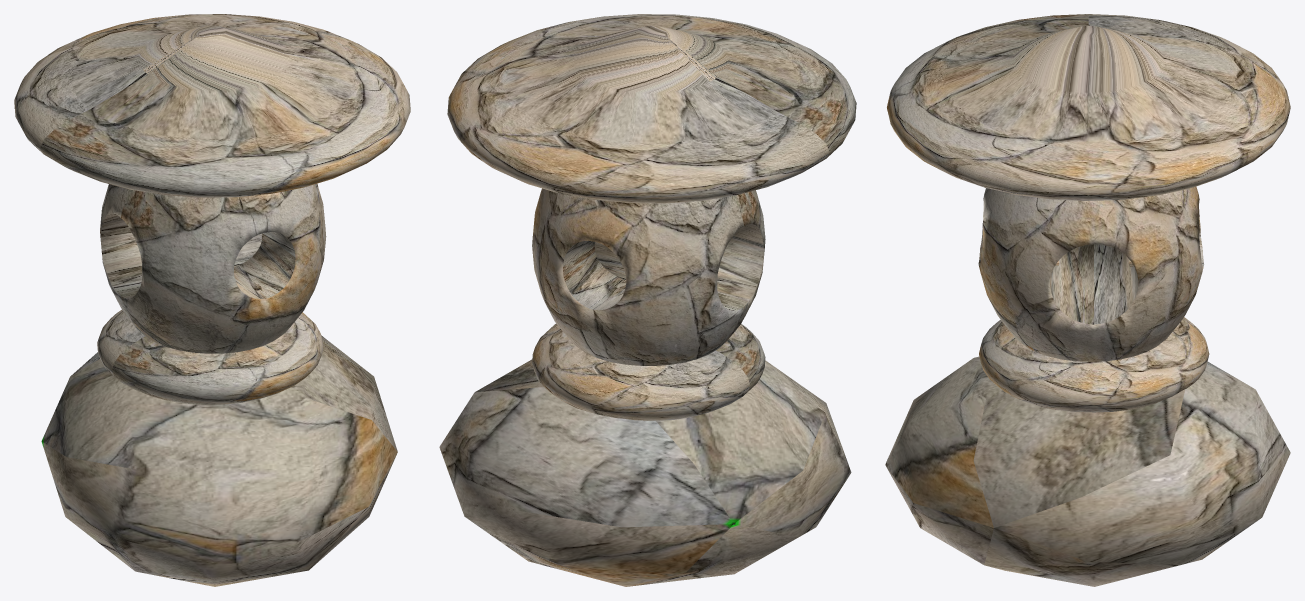
The model's file is Decoration2.fbx.
3 renders of one model, left to right at view 1: azimuth 30°, elevation 25°; view 2: azimuth 150°, elevation 25°; view 3: azimuth 270°, elevation 25°, orthographic. The views are drawn at different scales.
Visible parts, largest first — view 1: Sphere.006; view 2: Sphere.006; view 3: Sphere.006.
Part boxes in pixels (bbox=[...]): Sphere.006: bbox=[14, 14, 410, 586]; Sphere.006: bbox=[439, 14, 856, 586]; Sphere.006: bbox=[885, 14, 1290, 586].
Size of the model in its own units: 35.1 by 50.47 by 35.24.
1 material, 1 textured.
